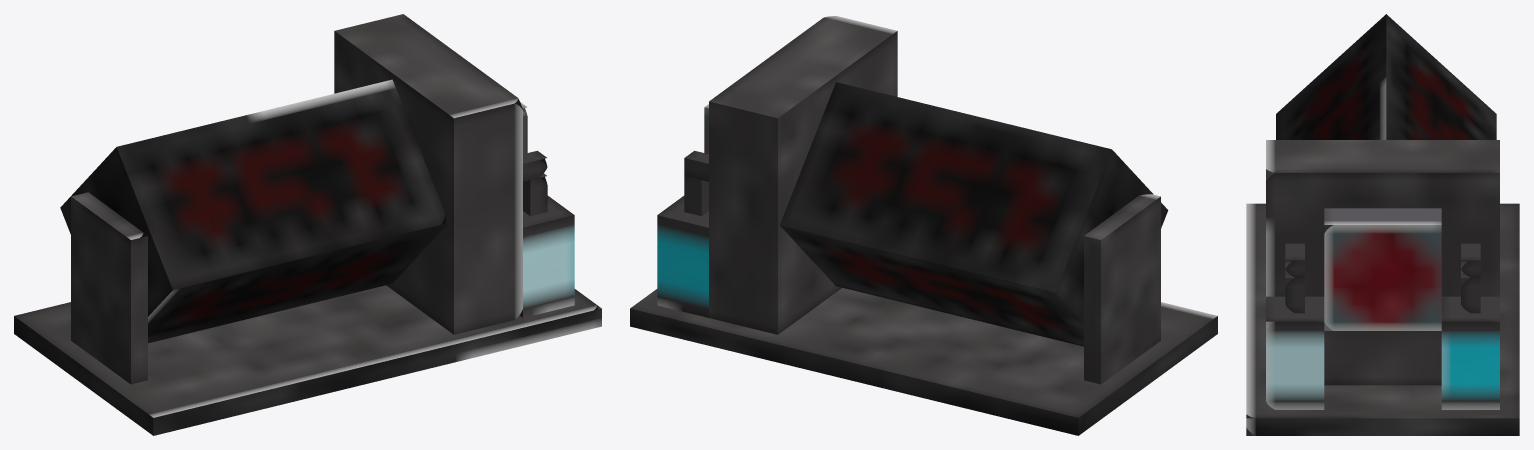
The model's file is odb.obj.
The picture shows the model from 3 angles, left to right: view 1: azimuth 30°, elevation 25°; view 2: azimuth 150°, elevation 25°; view 3: azimuth 270°, elevation 25°; orthographic projection. The views are drawn at different scales.
Visible parts, largest first — view 1: core, platform, machine, stand, liquid1, lefttube1, lefttube2; view 2: core, platform, machine, stand, liquid2, righttube1, righttube2; view 3: machine, platform, core, catalyst, liquid2, liquid1, righttube1, lefttube1, righttube2, lefttube2.
Boxes of the visible parts, <box> form: core: <box>60,79,448,343</box>; platform: <box>14,285,601,435</box>; machine: <box>334,14,522,334</box>; stand: <box>71,192,147,384</box>; liquid1: <box>520,196,574,317</box>; lefttube1: <box>523,176,547,216</box>; lefttube2: <box>523,150,547,181</box>; core: <box>780,82,1168,346</box>; platform: <box>630,288,1217,435</box>; machine: <box>709,16,897,334</box>; stand: <box>1084,192,1160,384</box>; liquid2: <box>657,196,708,317</box>; righttube1: <box>684,176,708,216</box>; righttube2: <box>684,150,708,181</box>; machine: <box>1266,140,1499,385</box>; platform: <box>1246,203,1519,435</box>; core: <box>1276,14,1496,139</box>; catalyst: <box>1324,208,1441,330</box>; liquid2: <box>1441,296,1499,409</box>; liquid1: <box>1266,296,1324,409</box>; righttube1: <box>1461,270,1480,313</box>; lefttube1: <box>1285,270,1304,313</box>; righttube2: <box>1461,243,1480,277</box>; lefttube2: <box>1285,243,1304,277</box>.
Size of the model in its own units: 1.62 by 0.8125 by 0.875.
